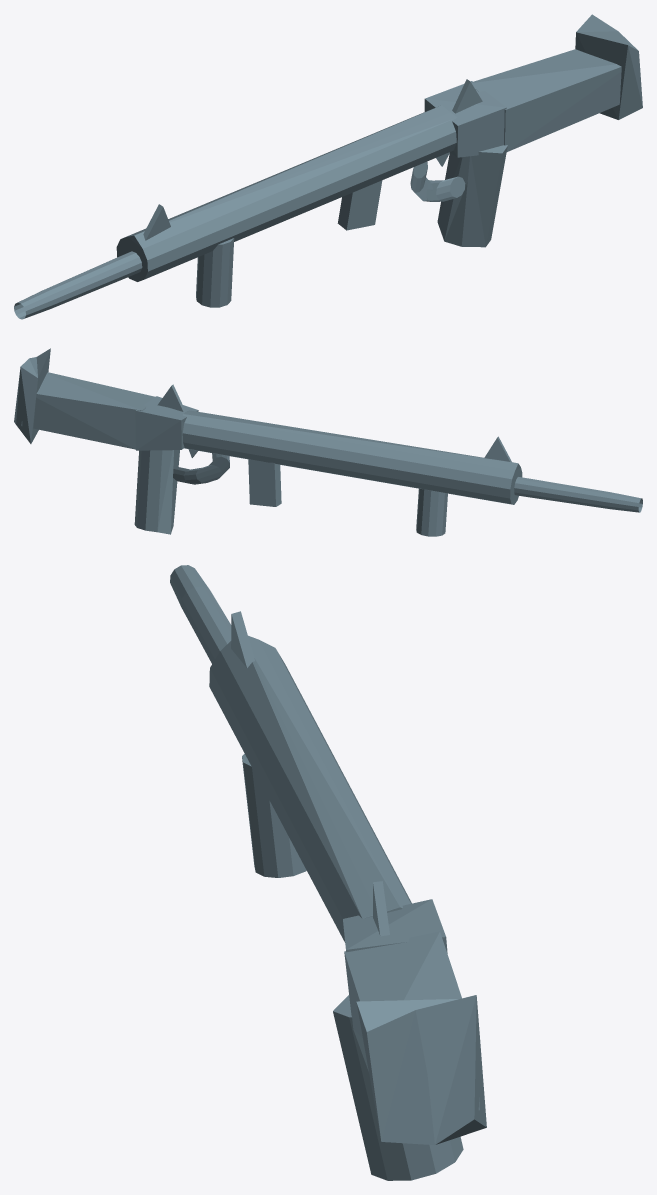
Rendered from AGun_Alex.fbx.
3 views of the same model, one above another, from view 1: azimuth 30°, elevation 25°; view 2: azimuth 150°, elevation 25°; view 3: azimuth 270°, elevation 25° (orthographic). The views are drawn at different scales.
Visible parts, largest first — view 1: mesh_1026535034, mesh_1618054399, mesh_520411084, mesh_1888145160, mesh_1219664407, mesh_355748912, mesh_1793967224, mesh_487419799, group_794446204, group_638486862, group_825426366; view 2: mesh_1026535034, mesh_1618054399, mesh_520411084, mesh_355748912, mesh_1219664407, mesh_1888145160, mesh_487419799, mesh_1793967224, group_794446204, group_638486862, group_825426366; view 3: mesh_1026535034, mesh_1888145160, mesh_1618054399, mesh_520411084, mesh_1793967224, mesh_355748912, mesh_1219664407, group_825426366.
Part boxes in pixels (x1,y1,x2,y2): mesh_1026535034: [116, 105, 457, 281]; mesh_1618054399: [471, 49, 621, 151]; mesh_520411084: [437, 145, 507, 247]; mesh_1888145160: [575, 14, 642, 119]; mesh_1219664407: [424, 81, 506, 157]; mesh_355748912: [14, 251, 142, 319]; mesh_1793967224: [196, 238, 234, 307]; mesh_487419799: [337, 180, 382, 230]; group_794446204: [410, 161, 465, 201]; group_638486862: [452, 79, 482, 113]; group_825426366: [143, 204, 170, 240]; mesh_1026535034: [182, 410, 522, 504]; mesh_1618054399: [21, 372, 155, 449]; mesh_520411084: [134, 450, 179, 534]; mesh_355748912: [514, 477, 642, 512]; mesh_1219664407: [135, 396, 198, 450]; mesh_1888145160: [14, 348, 50, 443]; mesh_487419799: [248, 459, 281, 506]; mesh_1793967224: [416, 488, 447, 536]; group_794446204: [173, 453, 229, 484]; group_638486862: [157, 384, 185, 411]; group_825426366: [484, 436, 511, 461]; mesh_1026535034: [209, 635, 411, 942]; mesh_1888145160: [356, 995, 486, 1145]; mesh_1618054399: [344, 931, 479, 1110]; mesh_520411084: [333, 995, 463, 1180]; mesh_1793967224: [242, 753, 306, 877]; mesh_355748912: [170, 565, 231, 663]; mesh_1219664407: [343, 899, 447, 953]; group_825426366: [231, 611, 254, 667].
Bounding box in the file's own units: 253 × 62.12 × 61.2.
